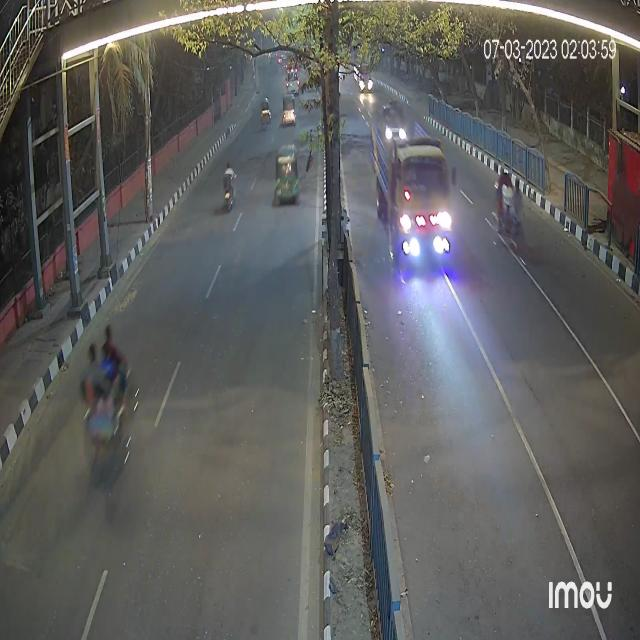cng: (274, 144, 300, 208), (281, 93, 296, 125)
rikshaw: (75, 341, 143, 469), (491, 161, 529, 252), (259, 90, 272, 130)
